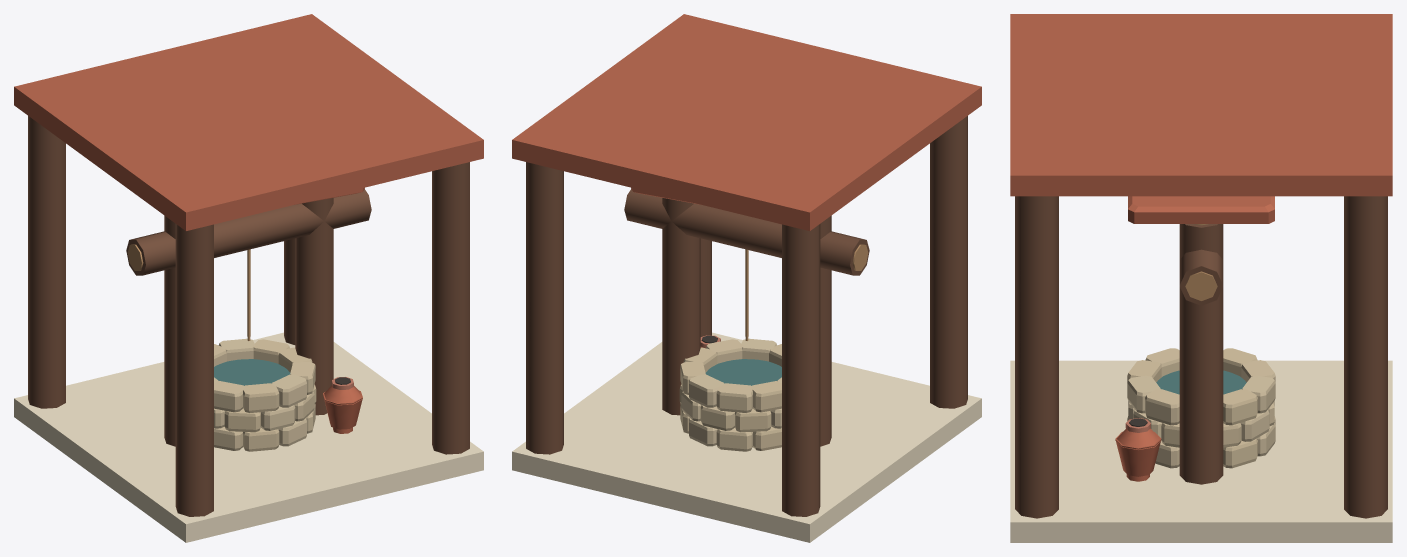
The model's file is well.glb.
3 renders of one model, left to right at view 1: azimuth 30°, elevation 25°; view 2: azimuth 150°, elevation 25°; view 3: azimuth 270°, elevation 25°, orthographic. The views are drawn at different scales.
Parts seen in each view (by area): view 1: Floor, Cap2, Cap4, Cap, Cap3, Post2, Post4, Post, Axle, WellPost2, WellPost, Water (+12 smaller); view 2: Floor, Cap, Cap3, Cap2, Cap4, Post, Post3, Post2, Axle, WellPost2, WellPost, Water (+11 smaller); view 3: Floor, Cap3, Cap4, Cap, Cap2, Post3, Post4, WellPost2, Canopy, Axle, PotBelly, WellStone22 (+12 smaller).
Part boxes in pixels (left/top/right/bottom): Floor: left=14, top=332, right=483, bottom=542; Cap2: left=100, top=113, right=334, bottom=230; Cap4: left=249, top=77, right=483, bottom=194; Cap: left=14, top=50, right=248, bottom=167; Cap3: left=163, top=14, right=397, bottom=112; Post2: left=175, top=224, right=213, bottom=516; Post4: left=432, top=162, right=469, bottom=454; Post: left=28, top=116, right=65, bottom=408; Axle: left=126, top=189, right=371, bottom=275; WellPost2: left=295, top=198, right=333, bottom=415; WellPost: left=164, top=215, right=175, bottom=446; Water: left=214, top=359, right=290, bottom=385; Floor: left=512, top=332, right=981, bottom=542; Cap: left=661, top=113, right=895, bottom=230; Cap3: left=512, top=77, right=746, bottom=194; Cap2: left=747, top=50, right=981, bottom=167; Cap4: left=598, top=14, right=832, bottom=112; Post: left=782, top=224, right=820, bottom=516; Post3: left=526, top=162, right=563, bottom=454; Post2: left=930, top=116, right=967, bottom=408; Axle: left=624, top=189, right=869, bottom=275; WellPost2: left=662, top=198, right=700, bottom=415; WellPost: left=820, top=215, right=831, bottom=446; Water: left=705, top=359, right=781, bottom=385; Floor: left=1010, top=360, right=1392, bottom=542; Cap3: left=1201, top=94, right=1392, bottom=196; Cap4: left=1010, top=94, right=1201, bottom=196; Cap: left=1201, top=14, right=1392, bottom=94; Cap2: left=1010, top=14, right=1201, bottom=94; Post3: left=1344, top=196, right=1387, bottom=518; Post4: left=1015, top=196, right=1058, bottom=518; WellPost2: left=1179, top=224, right=1223, bottom=484; Canopy: left=1128, top=196, right=1274, bottom=223; Axle: left=1179, top=249, right=1223, bottom=305; PotBelly: left=1115, top=431, right=1161, bottom=476; WellStone22: left=1145, top=389, right=1179, bottom=425.
Size of the model in its own units: 2 by 2.12 by 2.
